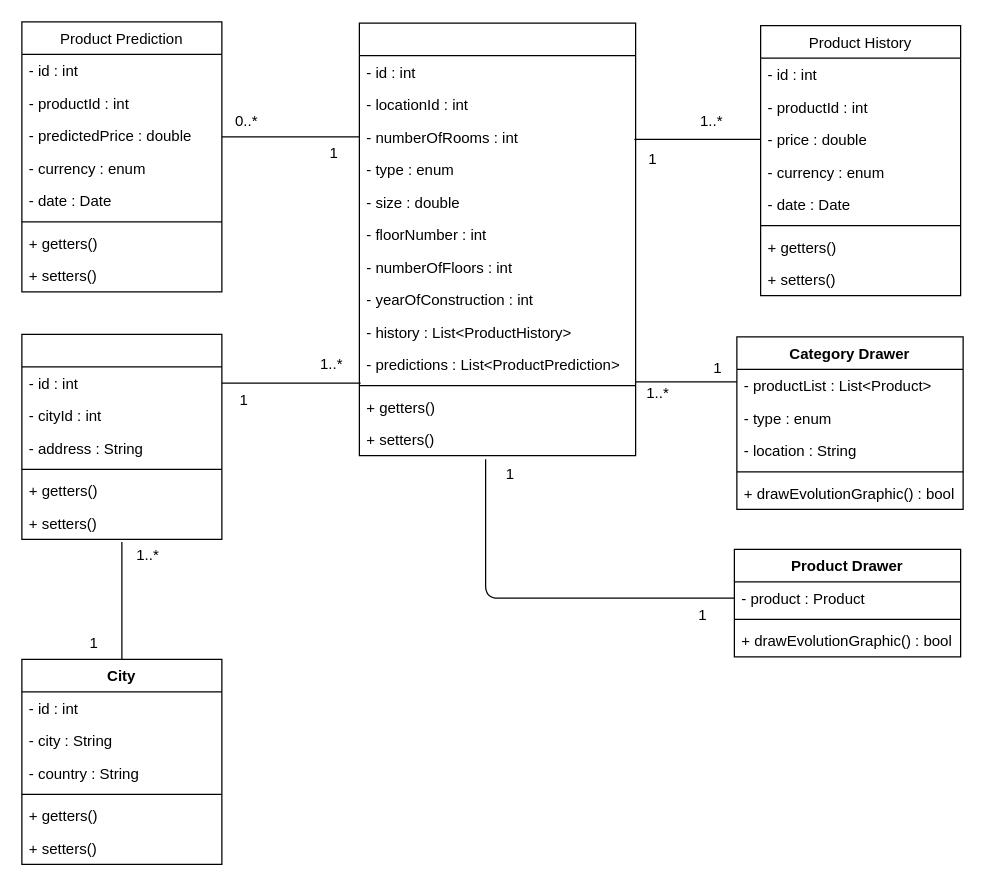
Some shapes in this 985 by 890 pixel diagram are drawn without their labels. The box of each missing label's shape, as (x1, y1, x2, y2) in pixels:
Location: (21, 333, 222, 539)
Product: (358, 22, 636, 456)
